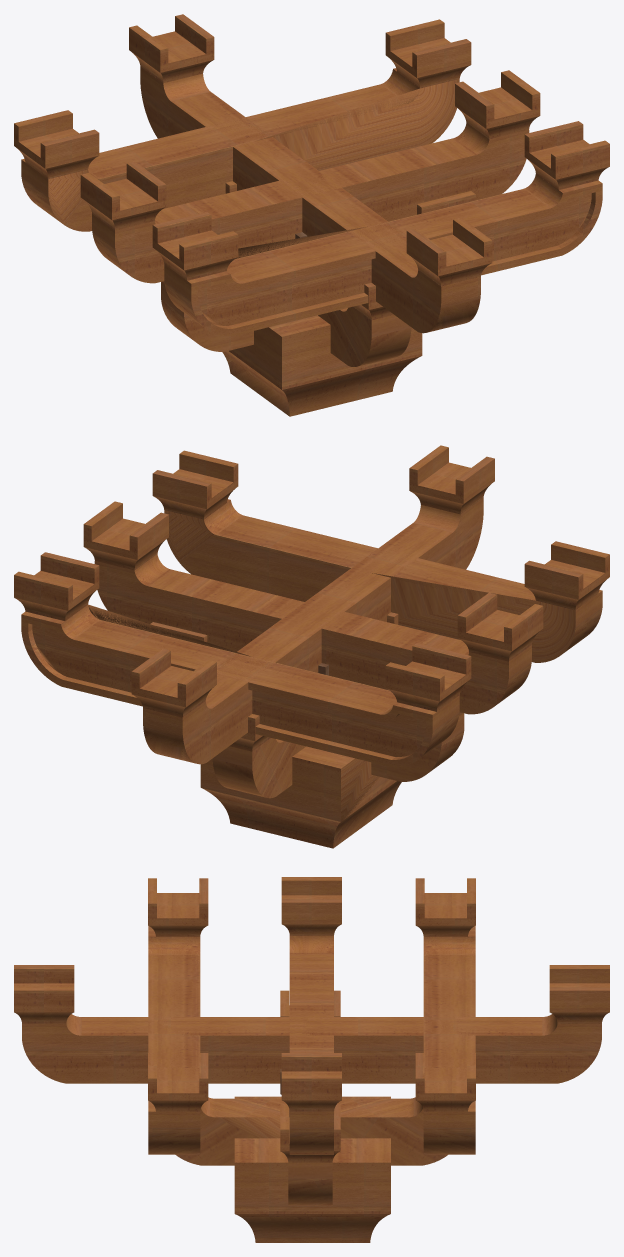
3 views of the same model, one above another, from view 1: azimuth 30°, elevation 25°; view 2: azimuth 150°, elevation 25°; view 3: azimuth 270°, elevation 25° (orthographic). The views are drawn at different scales.
Parts seen in each view (by area): view 1: samor_4136_6049, samor_4136_6046, samor_4136_6028, samor_4136_6027, samor_4136_6050, samor_4136_6045, samor_4136_6037, samor_4136_6029, samor_4136_6038, samor_4136_6048, samor_4136_6051, samor_4136_6052 (+9 smaller); view 2: samor_4136_6045, samor_4136_6050, samor_4136_6046, samor_4136_6027, samor_4136_6028, samor_4136_6038, samor_4136_6049, samor_4136_6029, samor_4136_6037, samor_4136_6052, samor_4136_6047, samor_4136_6048 (+8 smaller); view 3: samor_4136_6038, samor_4136_6037, samor_4136_6027, samor_4136_6045, samor_4136_6049, samor_4136_6042, samor_4136_6041, samor_4136_6046, samor_4136_6050, samor_4136_6029, samor_4136_6039, samor_4136_6040 (+9 smaller).
Boxes of the visible parts, x1,y1,x2,y2 form: samor_4136_6049: (164, 226, 394, 336); samor_4136_6046: (228, 68, 459, 170); samor_4136_6028: (312, 123, 529, 221); samor_4136_6027: (222, 315, 422, 416); samor_4136_6050: (370, 173, 602, 275); samor_4136_6045: (21, 122, 253, 231); samor_4136_6037: (291, 181, 480, 333); samor_4136_6029: (92, 181, 321, 283); samor_4136_6038: (140, 67, 326, 190); samor_4136_6048: (385, 19, 471, 88); samor_4136_6051: (152, 212, 238, 280); samor_4136_6052: (524, 121, 609, 189); samor_4136_6045: (227, 657, 459, 767); samor_4136_6050: (164, 499, 377, 601); samor_4136_6046: (21, 604, 253, 706); samor_4136_6027: (200, 746, 401, 848); samor_4136_6028: (94, 554, 304, 651); samor_4136_6038: (143, 610, 332, 764); samor_4136_6049: (372, 558, 602, 662); samor_4136_6029: (321, 612, 531, 714); samor_4136_6037: (293, 498, 483, 621); samor_4136_6052: (152, 450, 238, 519); samor_4136_6047: (385, 643, 471, 711); samor_4136_6048: (14, 552, 99, 620); samor_4136_6038: (312, 1014, 601, 1083); samor_4136_6037: (22, 1014, 311, 1083); samor_4136_6027: (234, 1096, 390, 1242); samor_4136_6045: (423, 926, 475, 1026); samor_4136_6049: (148, 926, 200, 1026); samor_4136_6042: (337, 1097, 447, 1165); samor_4136_6041: (175, 1097, 286, 1165); samor_4136_6046: (423, 1027, 475, 1154); samor_4136_6050: (148, 1027, 200, 1154); samor_4136_6029: (289, 935, 333, 1026); samor_4136_6039: (14, 965, 74, 1023); samor_4136_6040: (549, 965, 609, 1023).
Size of the model in its own units: 46.73 by 25.97 by 58.38.
2 materials, 2 textured.
